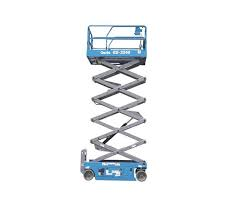Scissor Lift: (80, 24, 149, 183)
